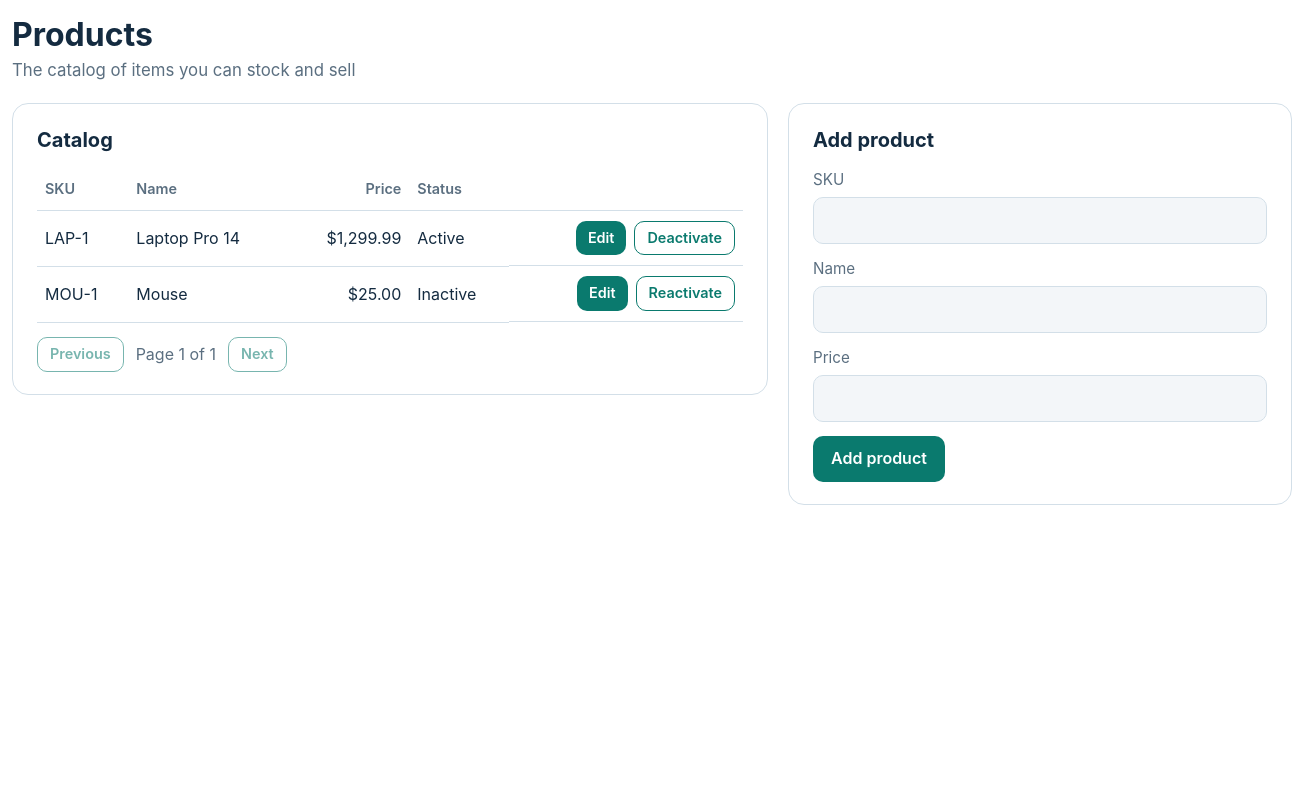
ProductsPage edit and deactivate › loads a product into the form and sends only the changed fields
This screenshot has width=1292, height=812.
Click the button "Edit" in the row of "LAP-1" at (601, 238), box 576,221 -> 626,256
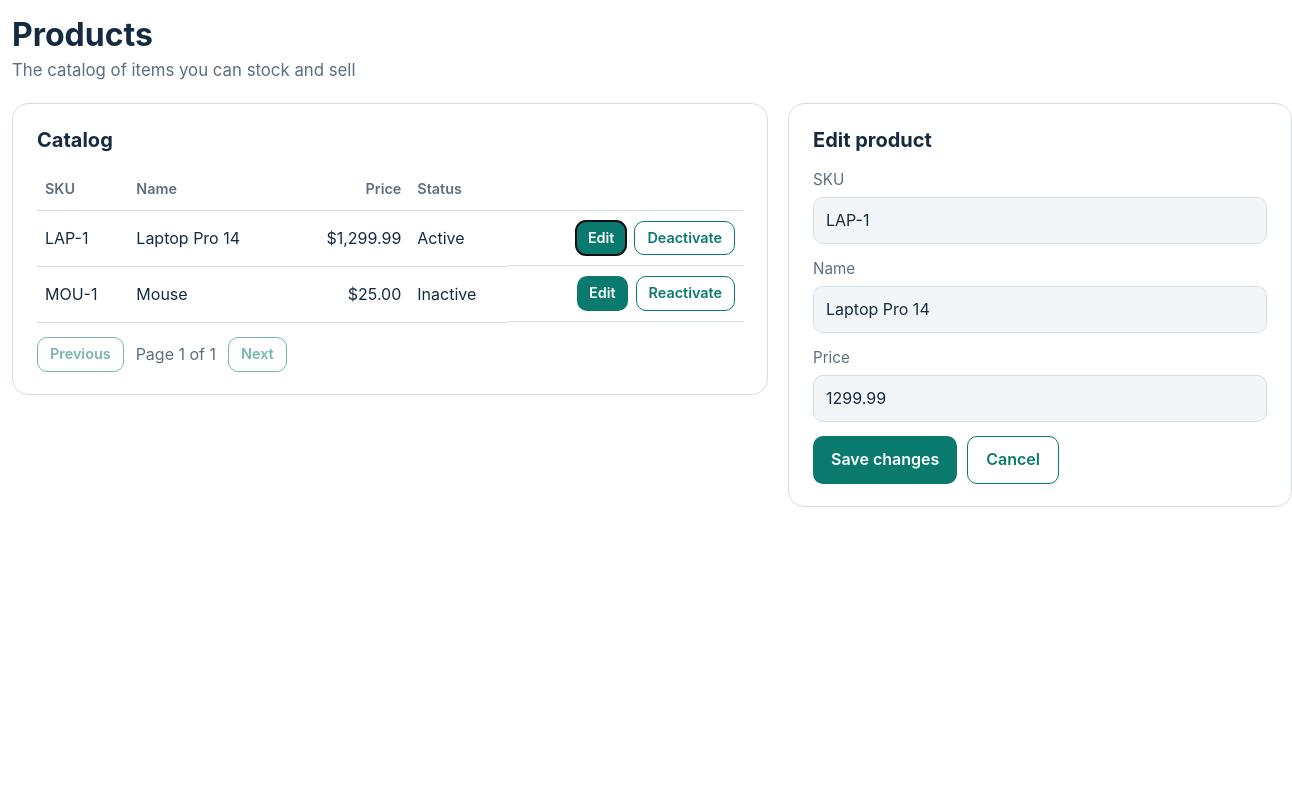
expect the field labelled "SKU" holds "LAP-1": met, box 813,197 -> 1267,244
expect the heading "Edit product" is shown: met, box 813,128 -> 932,152
Replace the text in the field labelled "Name" with "Laptop Pro 16" at (1040, 310), box 813,286 -> 1267,333
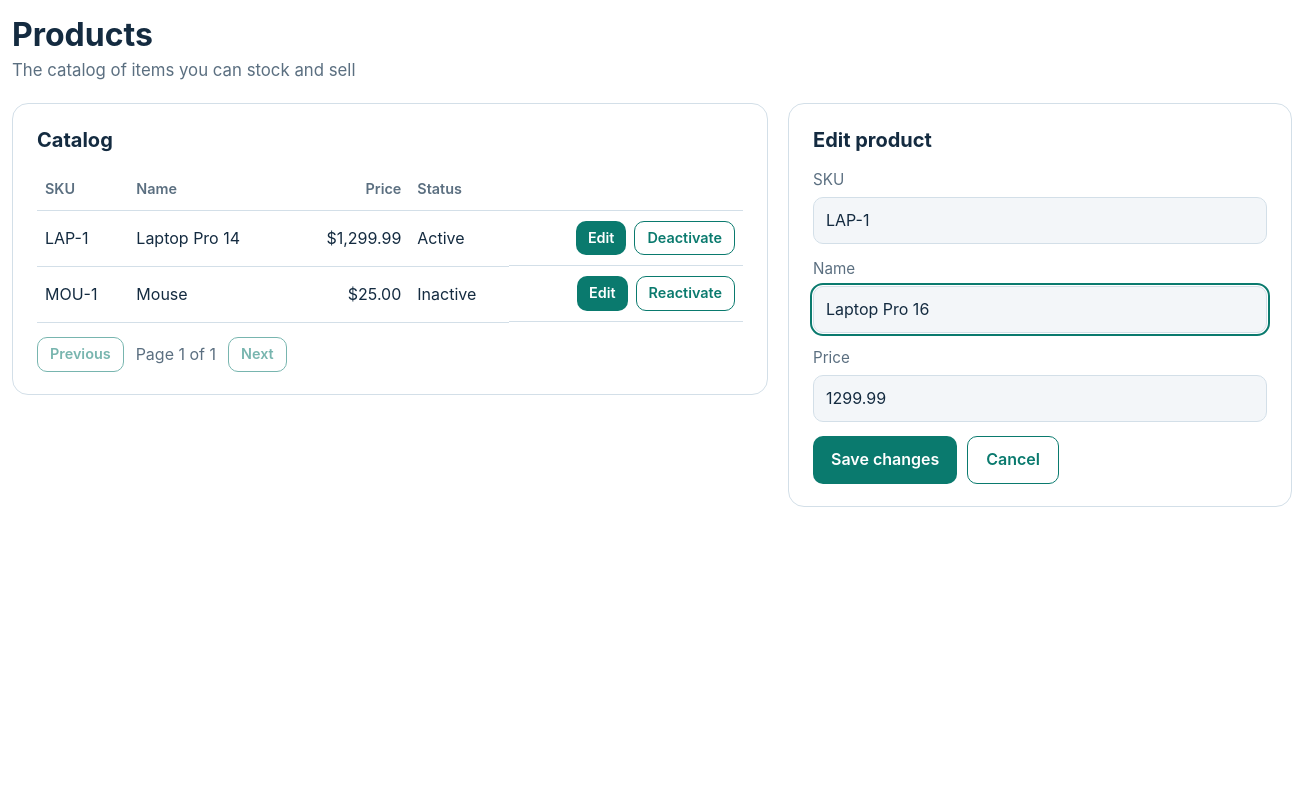
Click the button "Save changes" at (885, 460), box 813,436 -> 957,484
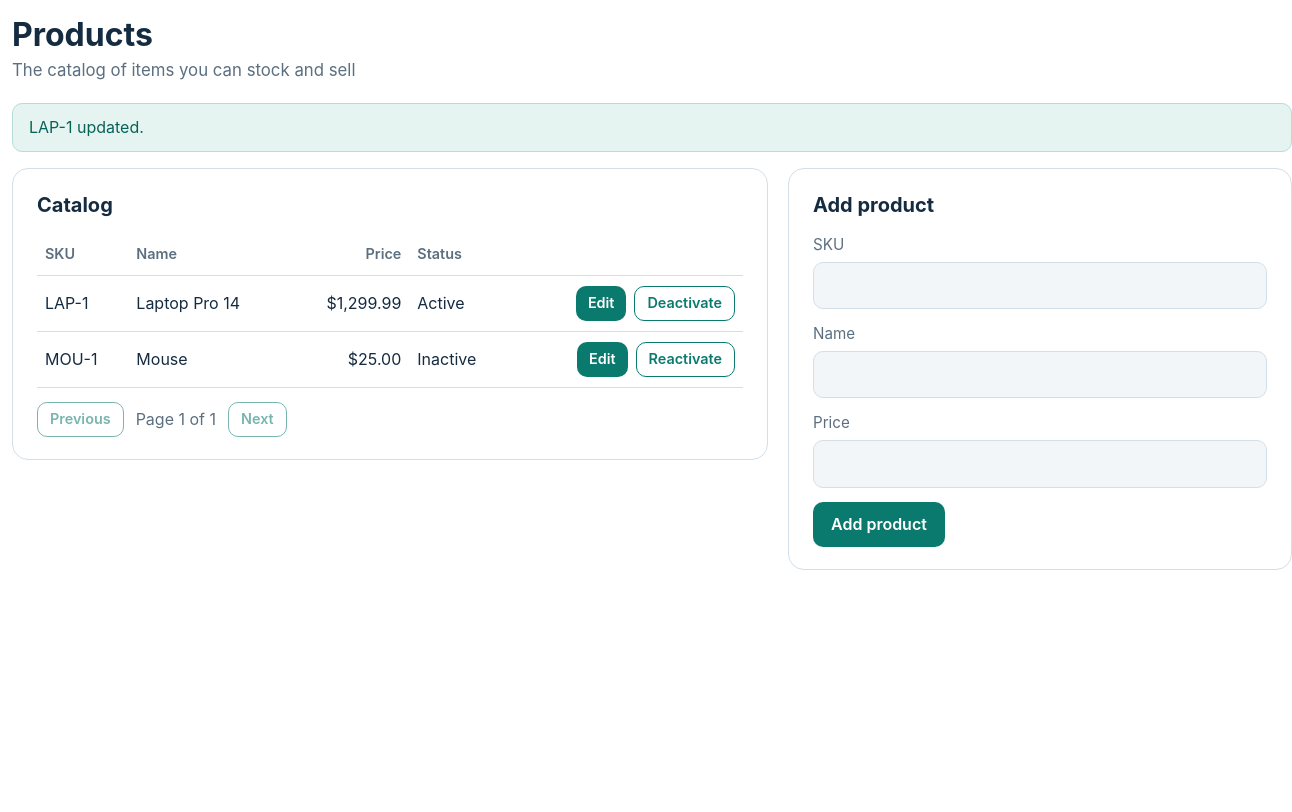
expect the text "LAP-1 updated." is shown: met, box 12,103 -> 1291,152
expect the heading "Add product" is shown: met, box 813,193 -> 934,217
